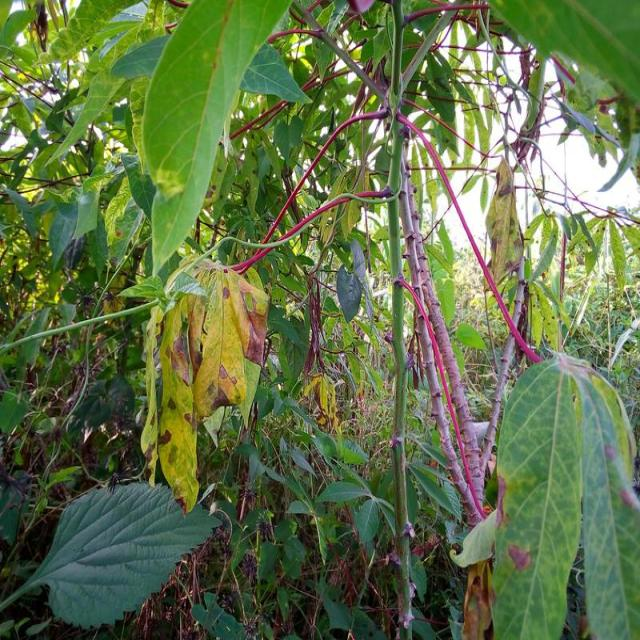cassava leaf: (452, 351, 638, 638), (140, 0, 293, 278), (1, 479, 222, 630), (146, 256, 270, 514)
